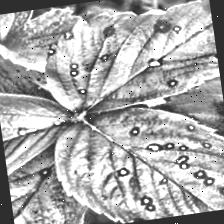Leaf Spot: (48, 94, 224, 224), (37, 0, 222, 120), (0, 77, 91, 224)
